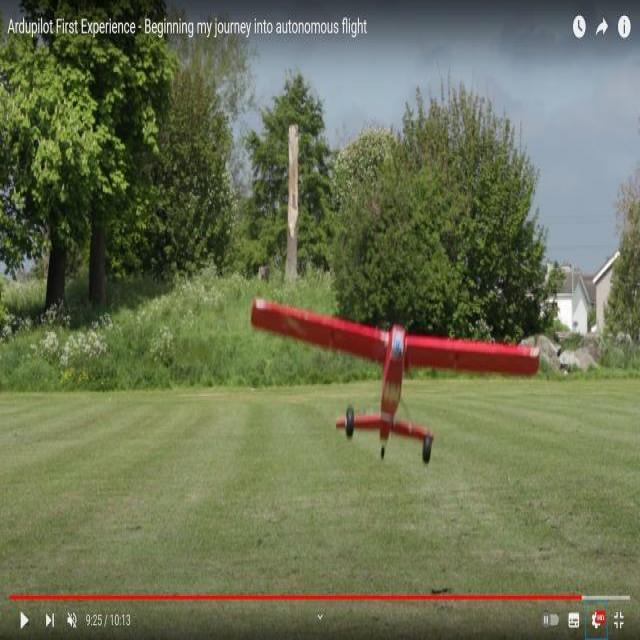iha: (242, 293, 535, 470)
